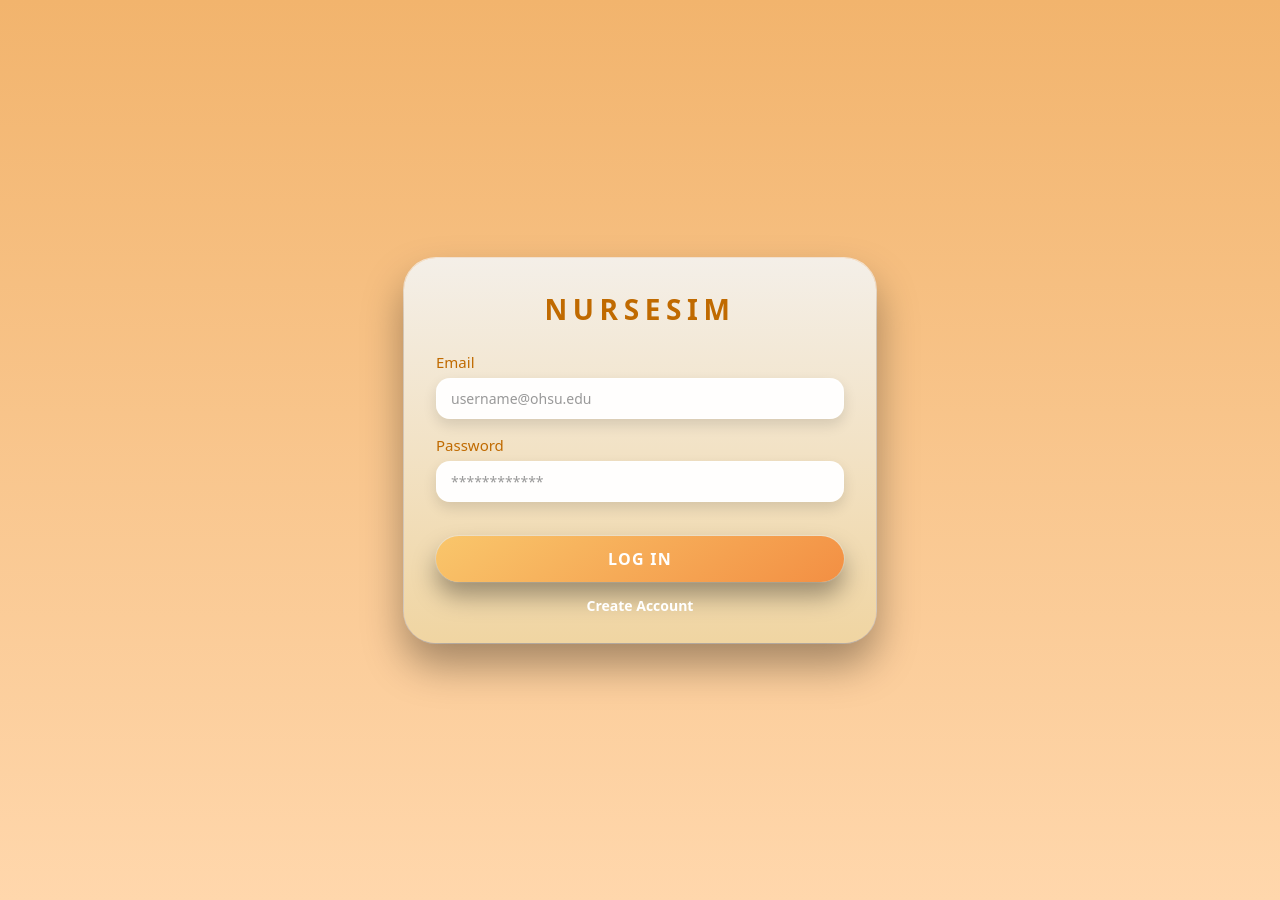
Scenario: LoginPage › shows form error when login fails
Type "test@ohsu.edu" into the field labelled "Email".
click(640, 398); type("test@ohsu.edu")  # box [436,378,844,418]
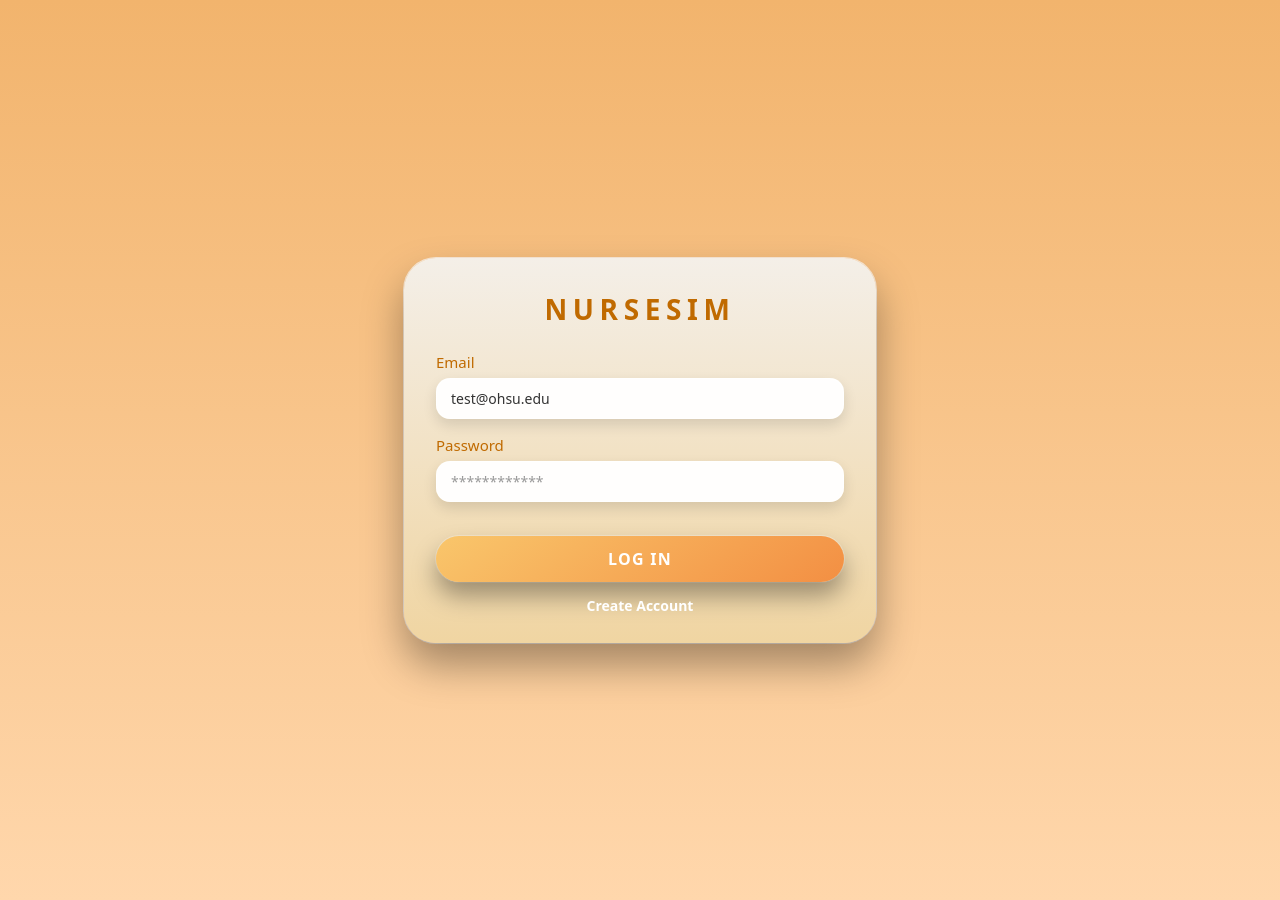
Type "wrongpassword" into the password field labelled "Password".
click(640, 481); type("wrongpassword")  # box [436,460,844,502]
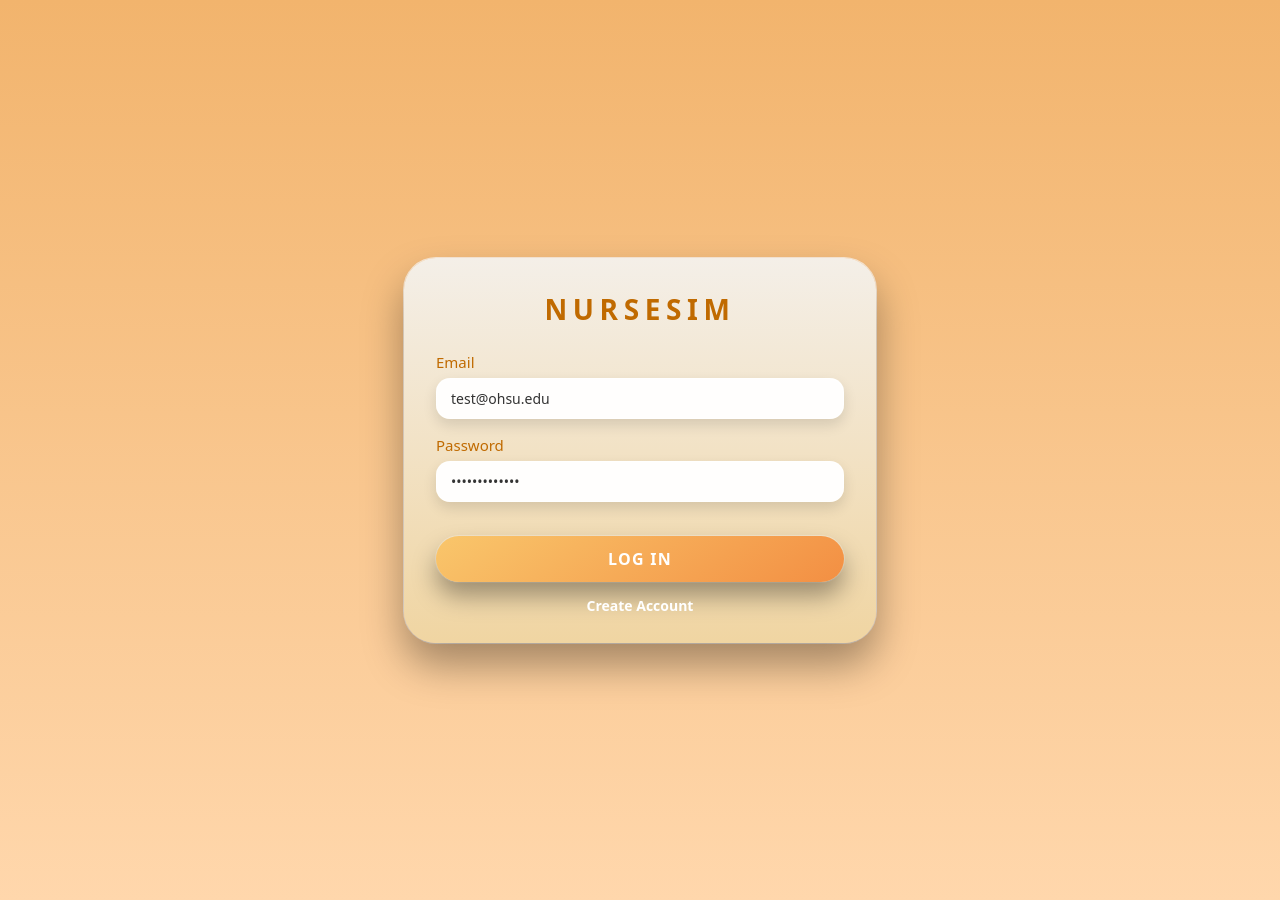
Click the button "Log In".
click(640, 558)  # box [436,536,844,582]
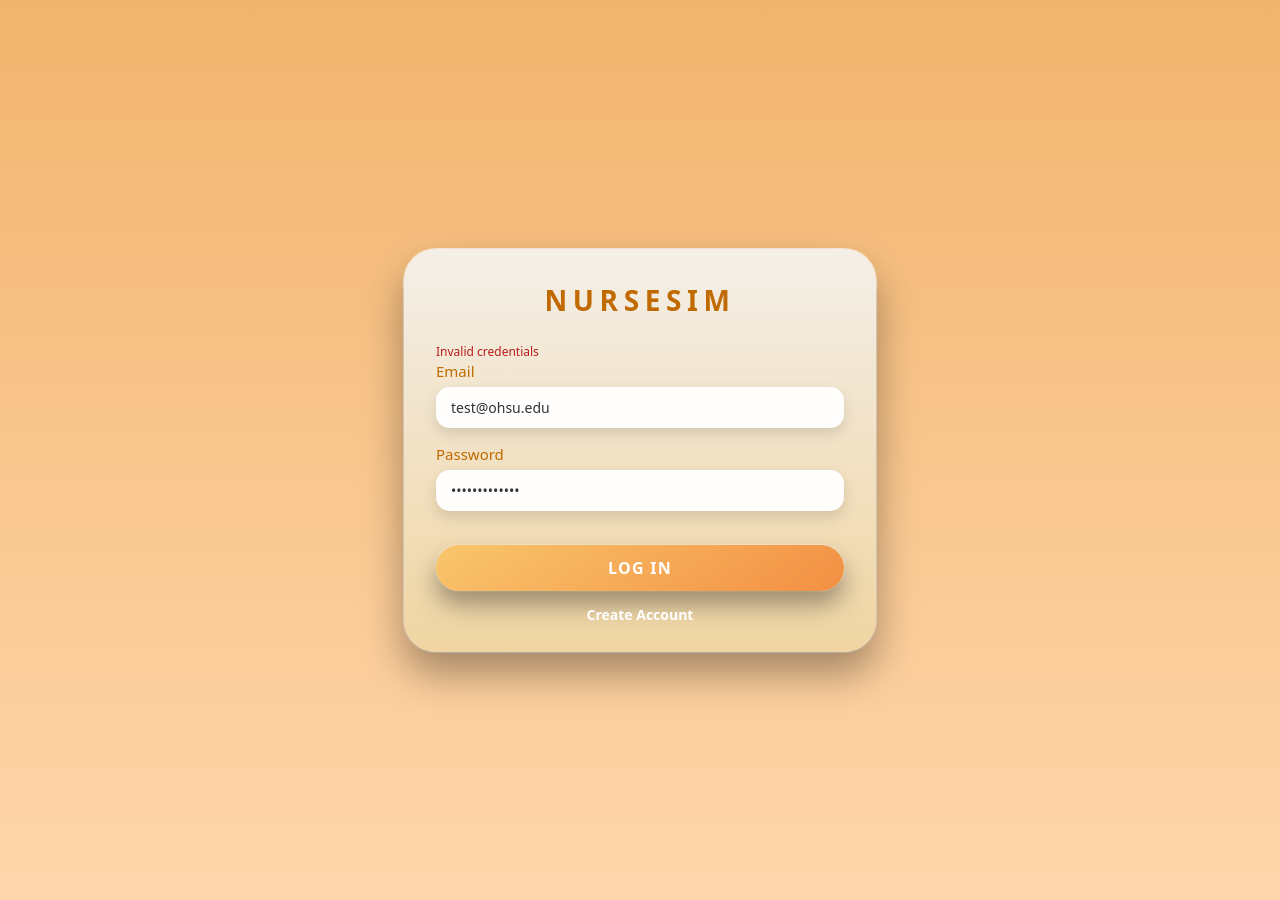
Check: the text "Invalid credentials" is shown, box [436,342,539,360]
